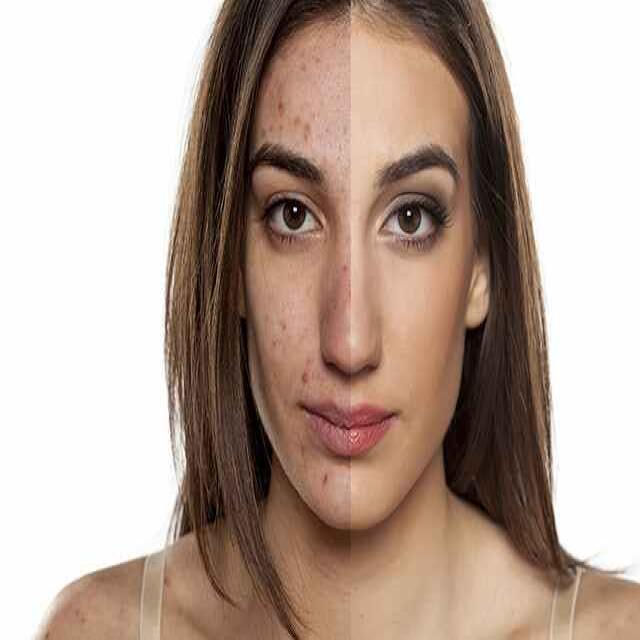Acne: (249, 30, 348, 401)
